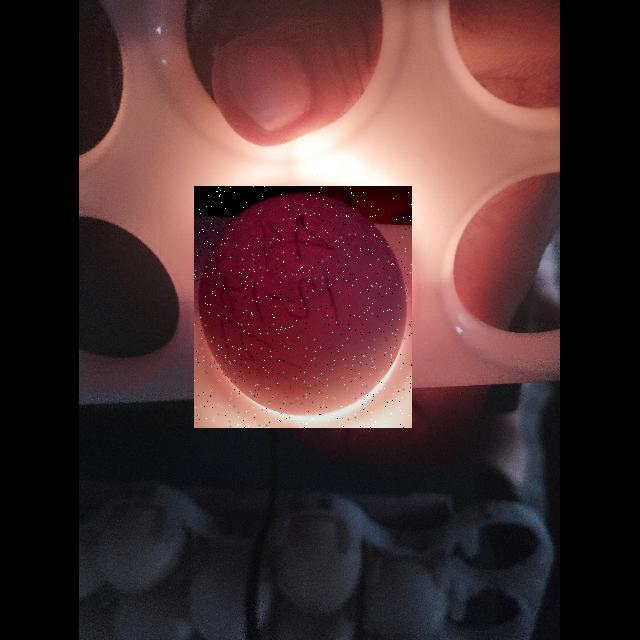Infertile: (194, 186, 412, 428)
